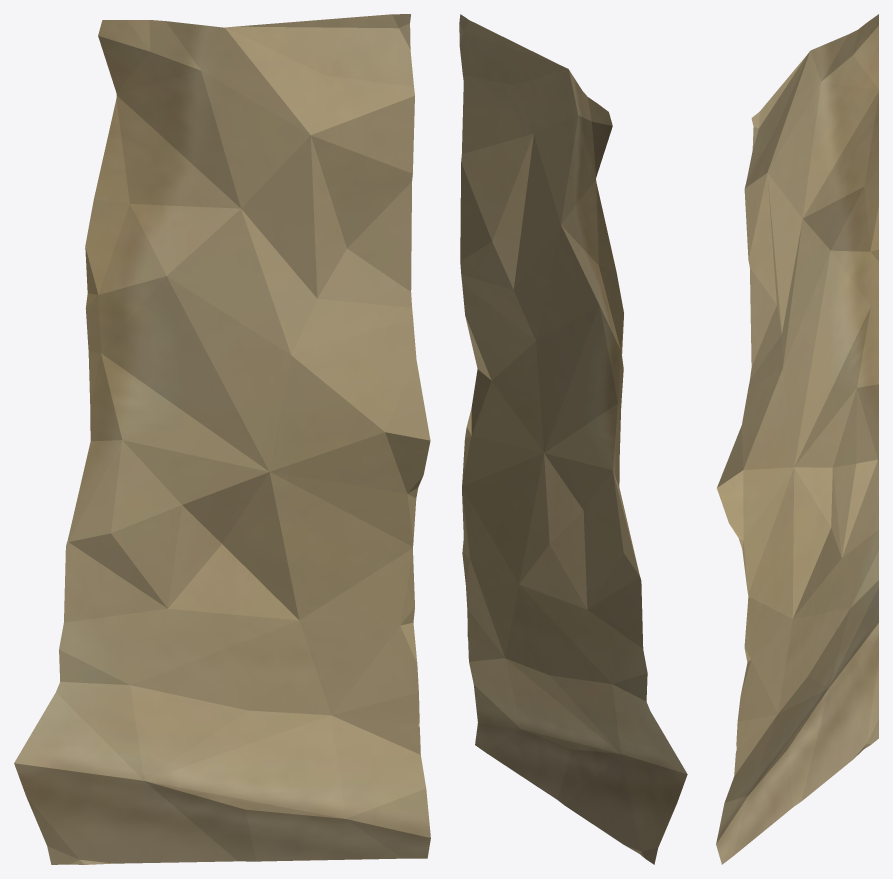
3 renders of one model, left to right at view 1: azimuth 30°, elevation 25°; view 2: azimuth 150°, elevation 25°; view 3: azimuth 270°, elevation 25°, orthographic. The views are drawn at different scales.
Size of the model in its own units: 0.3433 by 0.8374 by 0.1655.
1 material, 1 textured.
